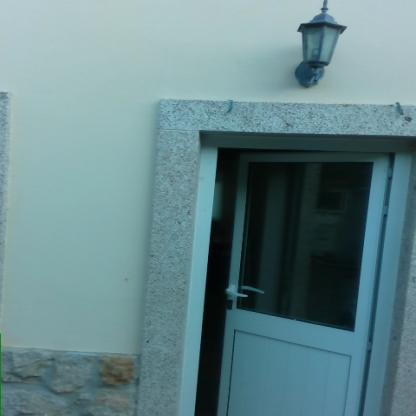semi: (137, 78, 416, 416)
